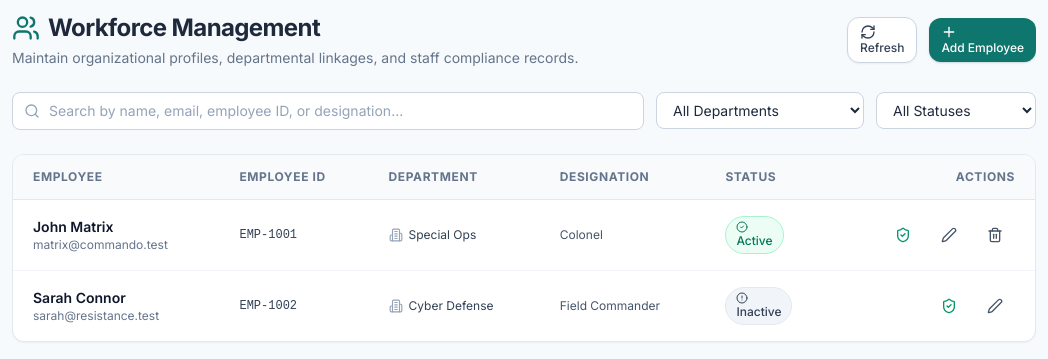
Test: AdminEmployeesPage › filters employees by search query
Check: the text "John Matrix" is shown, box top-left (33, 218), bottom-right (114, 235)
Type "Sarah" into the field named "Search employees" at (328, 111), box top-left (12, 92), bottom-right (644, 130)
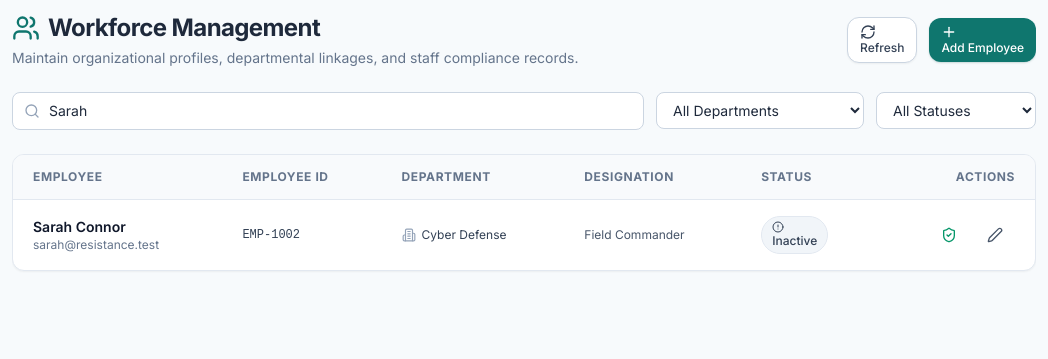
Check: the text "Sarah Connor" is shown, box top-left (33, 218), bottom-right (126, 235)
Check: the text "John Matrix" is gone
